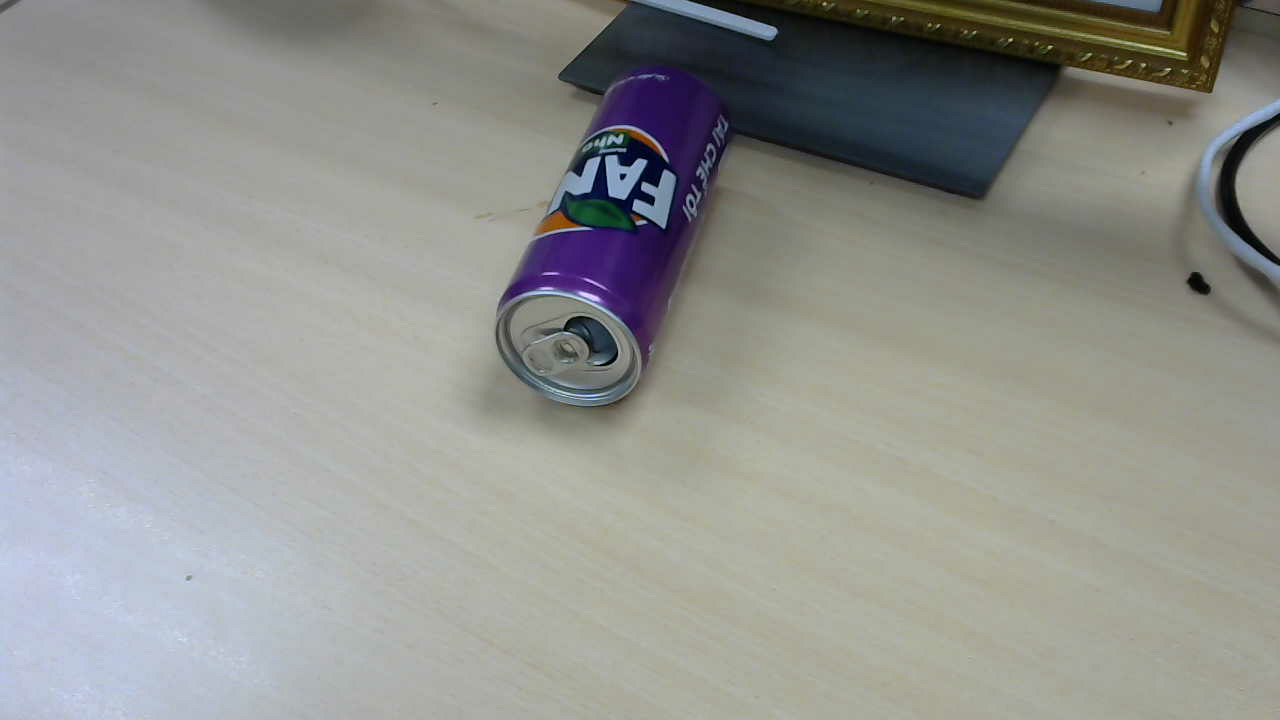Fanta: (498, 67, 742, 414)
